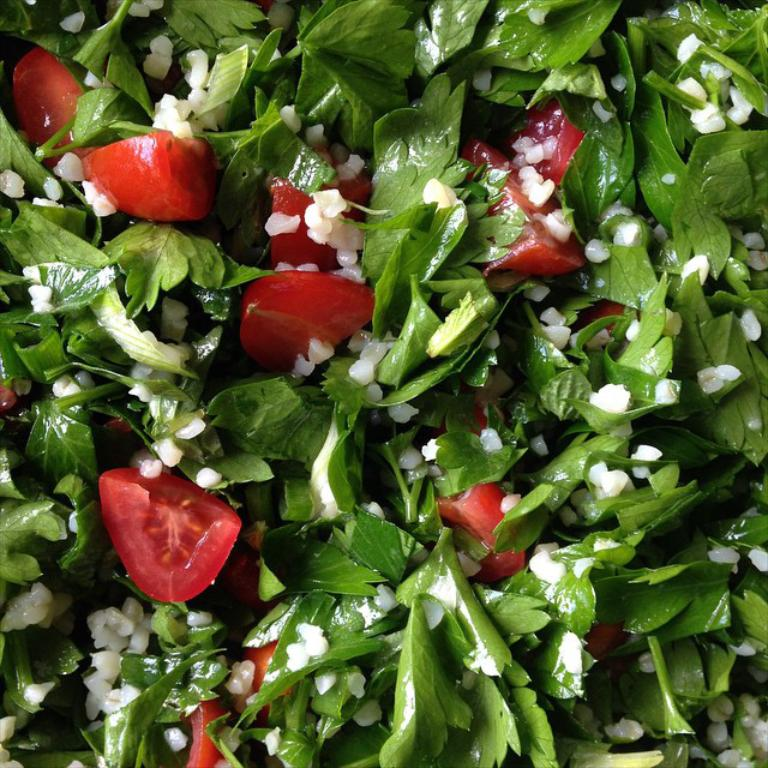Tomato: (97, 468, 241, 600), (240, 269, 377, 370), (472, 136, 568, 275), (82, 131, 215, 223), (12, 46, 81, 169), (445, 479, 528, 581), (514, 88, 584, 189), (271, 172, 342, 268)
